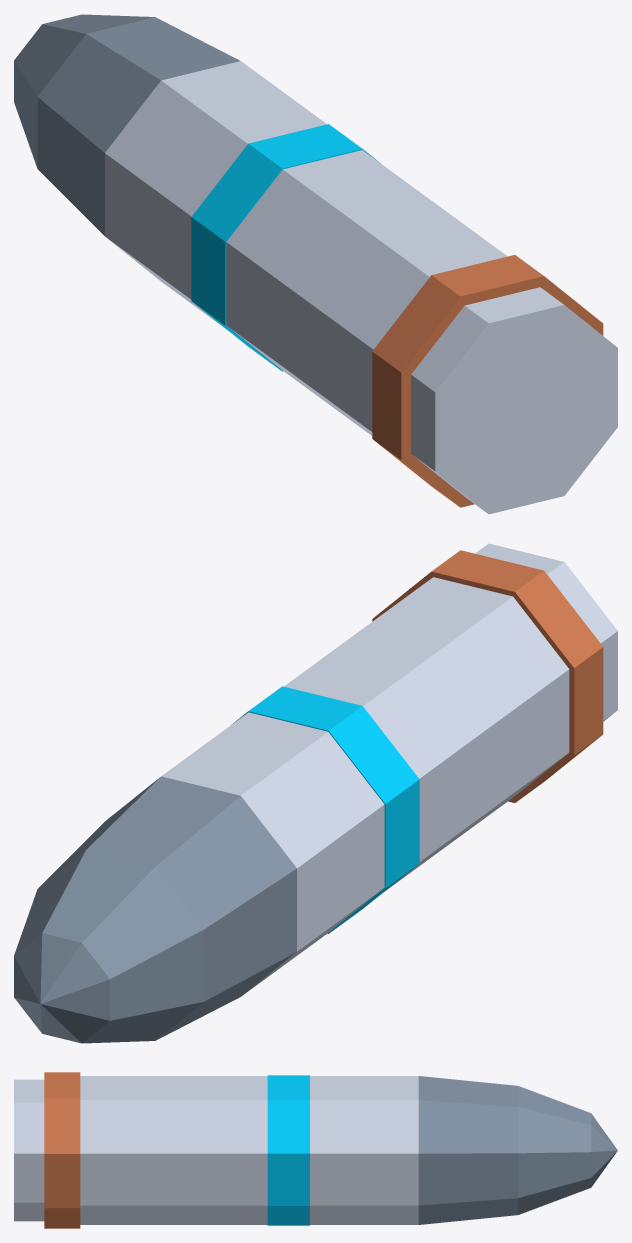
File: ce_ammo_artillery_emp_a.obj
3 renders of one model, top to bottom at view 1: azimuth 30°, elevation 25°; view 2: azimuth 150°, elevation 25°; view 3: azimuth 270°, elevation 25°, orthographic. The views are drawn at different scales.
Visible parts, largest first — view 1: ce_ammo_artillery_emp_a_2, ce_ammo_artillery_emp_a_0, ce_ammo_artillery_emp_a_4, ce_ammo_artillery_emp_a_5, ce_ammo_artillery_emp_a_1, ce_ammo_artillery_emp_a_3, ce_ammo_artillery_emp_a_6; view 2: ce_ammo_artillery_emp_a_2, ce_ammo_artillery_emp_a_5, ce_ammo_artillery_emp_a_4, ce_ammo_artillery_emp_a_6, ce_ammo_artillery_emp_a_1, ce_ammo_artillery_emp_a_3, ce_ammo_artillery_emp_a_7, ce_ammo_artillery_emp_a_0; view 3: ce_ammo_artillery_emp_a_2, ce_ammo_artillery_emp_a_4, ce_ammo_artillery_emp_a_5, ce_ammo_artillery_emp_a_6, ce_ammo_artillery_emp_a_3, ce_ammo_artillery_emp_a_1, ce_ammo_artillery_emp_a_0, ce_ammo_artillery_emp_a_7.
Part boxes in pixels (<box>): ce_ammo_artillery_emp_a_2: <box>226,150,507,435</box>; ce_ammo_artillery_emp_a_0: <box>411,287,617,514</box>; ce_ammo_artillery_emp_a_4: <box>105,61,326,328</box>; ce_ammo_artillery_emp_a_5: <box>37,17,239,235</box>; ce_ammo_artillery_emp_a_1: <box>372,255,603,507</box>; ce_ammo_artillery_emp_a_3: <box>191,124,380,371</box>; ce_ammo_artillery_emp_a_6: <box>14,14,154,168</box>; ce_ammo_artillery_emp_a_2: <box>284,577,569,890</box>; ce_ammo_artillery_emp_a_5: <box>39,776,296,1040</box>; ce_ammo_artillery_emp_a_4: <box>161,712,384,994</box>; ce_ammo_artillery_emp_a_6: <box>14,850,203,1043</box>; ce_ammo_artillery_emp_a_1: <box>372,550,603,802</box>; ce_ammo_artillery_emp_a_3: <box>231,686,419,933</box>; ce_ammo_artillery_emp_a_7: <box>14,933,109,1043</box>; ce_ammo_artillery_emp_a_0: <box>475,543,617,721</box>; ce_ammo_artillery_emp_a_2: <box>80,1076,267,1224</box>; ce_ammo_artillery_emp_a_4: <box>310,1076,418,1224</box>; ce_ammo_artillery_emp_a_5: <box>418,1076,518,1224</box>; ce_ammo_artillery_emp_a_6: <box>518,1086,591,1214</box>; ce_ammo_artillery_emp_a_3: <box>267,1075,309,1225</box>; ce_ammo_artillery_emp_a_1: <box>44,1072,80,1228</box>; ce_ammo_artillery_emp_a_0: <box>14,1079,44,1221</box>; ce_ammo_artillery_emp_a_7: <box>591,1113,617,1187</box>.
Bounding box in the file's own units: 0.2134 × 0.2134 × 0.89.
